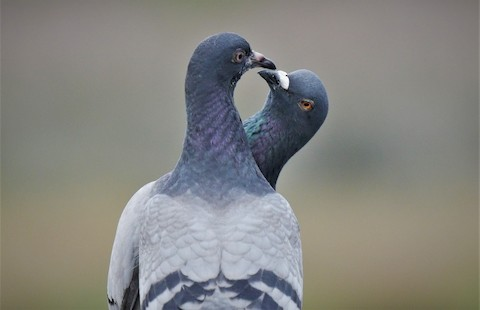pigeon: (99, 27, 309, 301)
